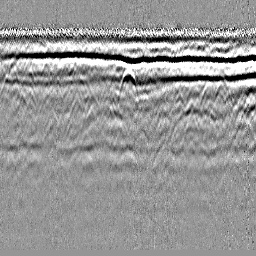cavity: (117, 68, 138, 100)
